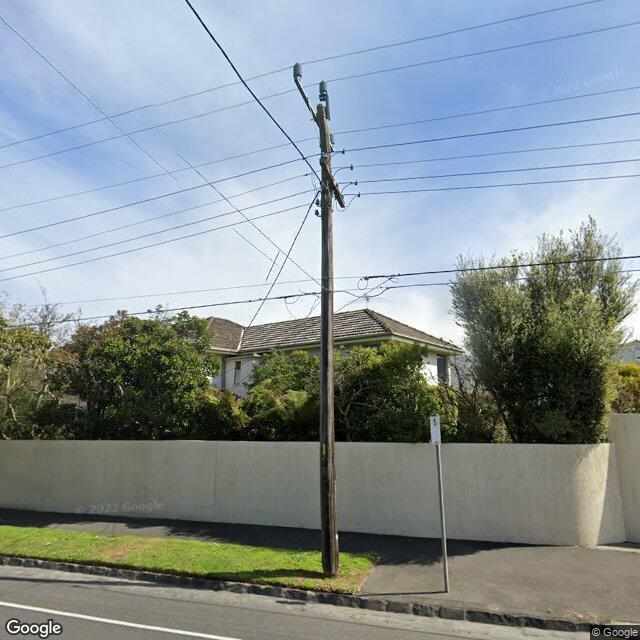HV-transmission: (294, 62, 334, 152)
crossarm: (312, 149, 360, 216), (296, 78, 336, 152)
timber-pole: (315, 103, 339, 578)
